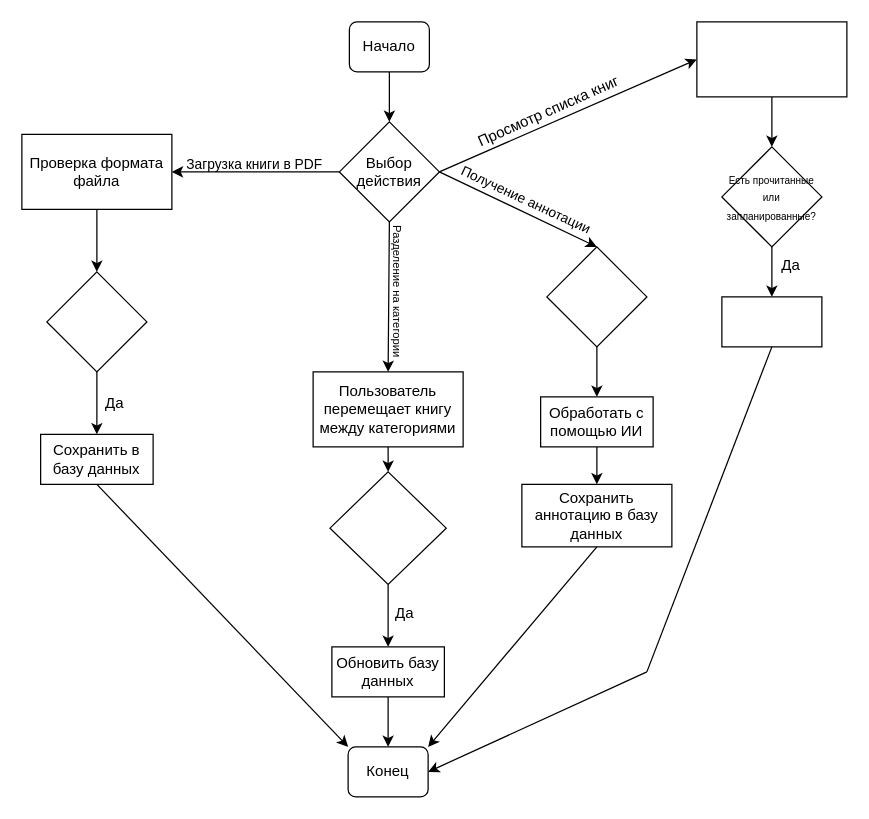
Image size: 869x819. Some labels were removed from this diagram. The centre of each missing label's shape, as x and y in pixels:
"Вывести в интерфейс" belongs at (771,321).
"Категория изменена?" belongs at (387,527).
"Книга загружена?" belongs at (596,296).
"Получение данных из базы SQLite" belongs at (771,59).
"Файл формата PDF?" belongs at (96,321).
